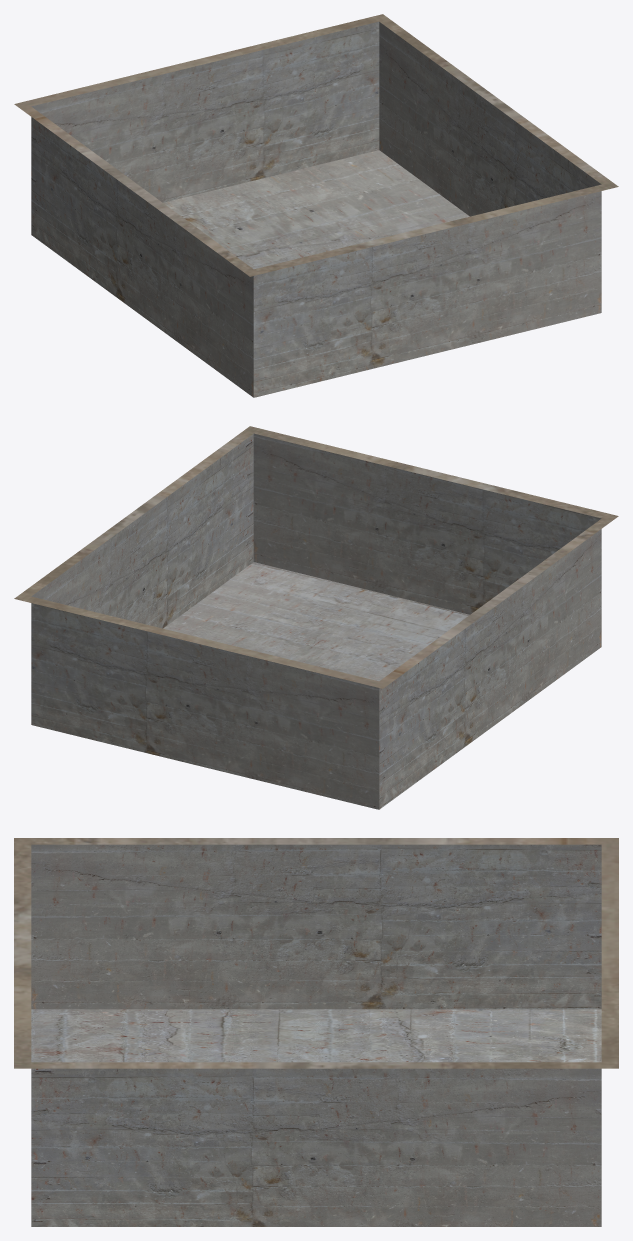
File: interiorUpdated.fbx
3 renders of one model, top to bottom at view 1: azimuth 30°, elevation 25°; view 2: azimuth 150°, elevation 25°; view 3: azimuth 270°, elevation 25°, orthographic. The views are drawn at different scales.
Parts seen in each view (by area): view 1: q; view 2: q; view 3: q.
Boxes of the visible parts, box(x1,y1,x2,y2) form: q: box(14, 14, 618, 397); q: box(14, 426, 618, 809); q: box(14, 838, 618, 1226).
Size of the model in its own units: 49.65 by 16.52 by 55.01.
2 materials, 2 textured.
